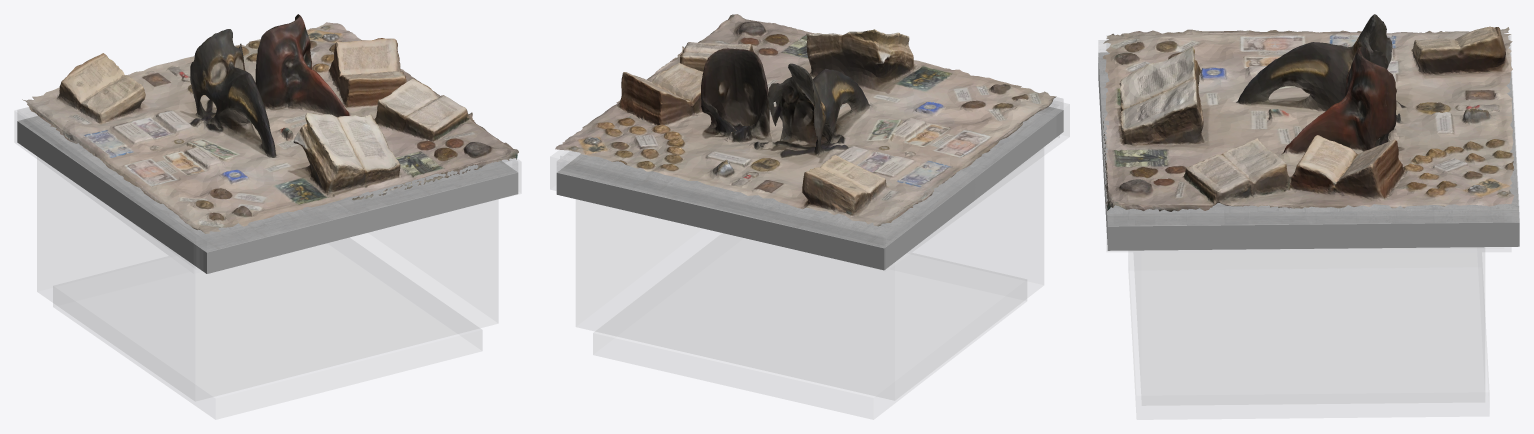
The model's file is korakomaska.fbx.
3 renders of one model, left to right at view 1: azimuth 30°, elevation 25°; view 2: azimuth 150°, elevation 25°; view 3: azimuth 270°, elevation 25°, orthographic. The views are drawn at different scales.
Visible parts, largest first — view 1: Κορακομασκα, housing, basis, travertine, epoxy resin, top; view 2: housing, Κορακομασκα, basis, travertine, epoxy resin, top; view 3: Κορακομασκα, basis, housing, travertine, top, epoxy resin.
Part boxes in pixels (x1,y1,x2,y2): Κορακομασκα: [22, 14, 518, 233]; housing: [37, 157, 497, 400]; basis: [53, 238, 481, 419]; travertine: [17, 116, 518, 273]; epoxy resin: [18, 107, 517, 251]; top: [15, 107, 520, 273]; housing: [576, 148, 1043, 400]; Κορακομασκα: [555, 14, 1056, 226]; basis: [593, 234, 1026, 419]; travertine: [556, 107, 1063, 270]; epoxy resin: [557, 97, 1062, 247]; top: [550, 100, 1069, 270]; Κορακομασκα: [1103, 14, 1514, 211]; basis: [1129, 251, 1488, 419]; housing: [1134, 248, 1484, 405]; travertine: [1098, 48, 1519, 250]; top: [1107, 35, 1510, 251]; epoxy resin: [1099, 36, 1518, 225].
Bounding box in the file's own units: 80.11 × 65.64 × 78.76.
